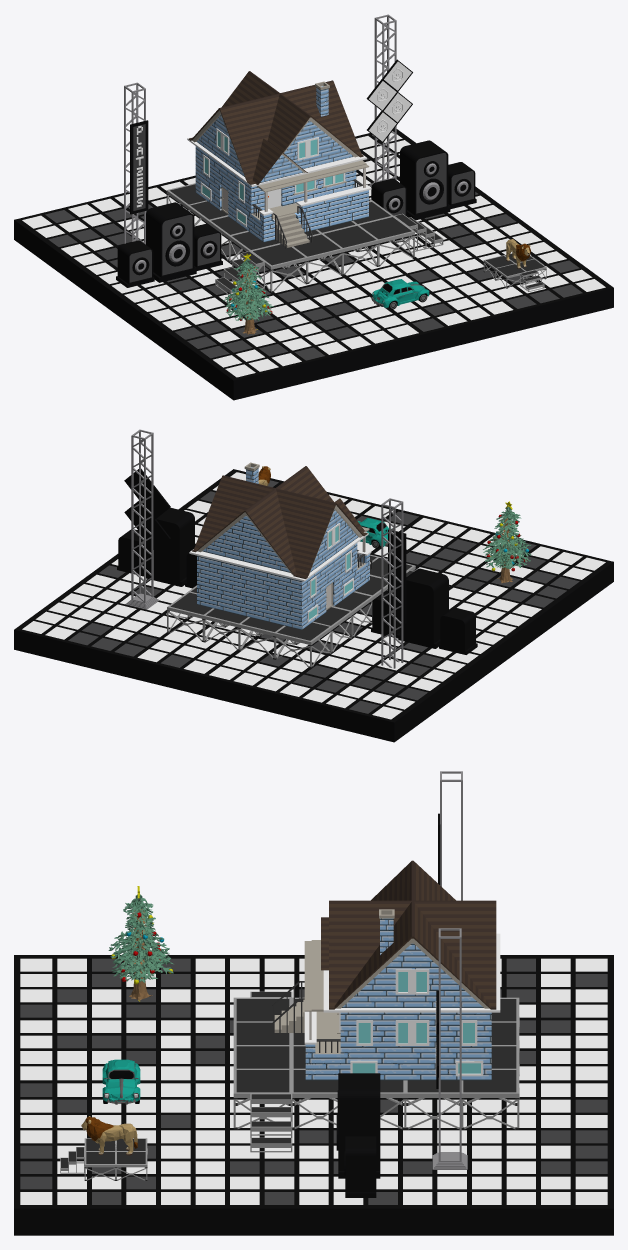
3 views of the same model, one above another, from view 1: azimuth 30°, elevation 25°; view 2: azimuth 150°, elevation 25°; view 3: azimuth 270°, elevation 25° (orthographic). The views are drawn at different scales.
Visible parts, largest first — view 1: Cube.008, Cube.547, OBJRANDOM_CHRISTMAS_TREE, VEHICLES_VOLKSWAGEN; view 2: Cube.008, Cube.547, OBJRANDOM_CHRISTMAS_TREE, VEHICLES_VOLKSWAGEN; view 3: Cube.008, Cube.547, OBJRANDOM_CHRISTMAS_TREE, VEHICLES_VOLKSWAGEN, ANIMAL_LEON.
Part boxes in pixels (x1,y1,x2,y2): Cube.008: (14, 14, 613, 400); Cube.547: (187, 71, 371, 248); OBJRANDOM_CHRISTMAS_TREE: (222, 253, 273, 334); VEHICLES_VOLKSWAGEN: (371, 279, 429, 309); Cube.008: (14, 429, 613, 742); Cube.547: (189, 462, 372, 629); OBJRANDOM_CHRISTMAS_TREE: (483, 501, 531, 583); VEHICLES_VOLKSWAGEN: (358, 518, 391, 548); Cube.008: (14, 771, 613, 1235); Cube.547: (272, 860, 500, 1080); OBJRANDOM_CHRISTMAS_TREE: (108, 886, 173, 1001); VEHICLES_VOLKSWAGEN: (102, 1059, 140, 1104); ANIMAL_LEON: (81, 1116, 137, 1155).
Bounding box in the file's own units: 4000 × 1988 × 4000.
39 materials, 2 textured.
